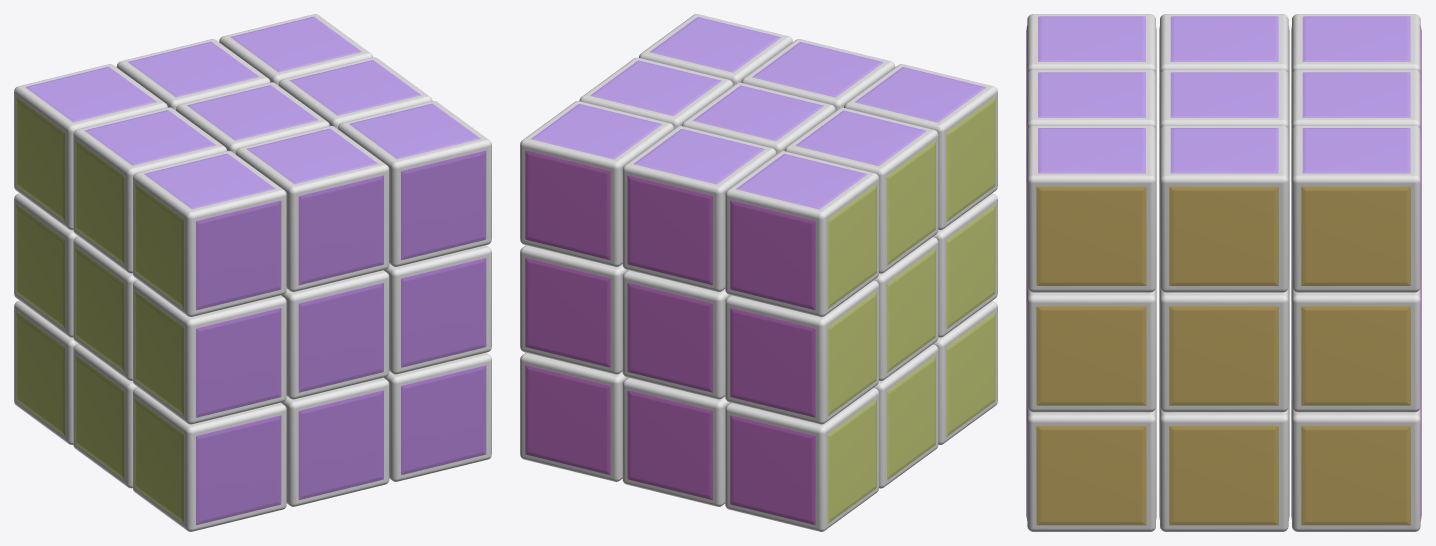
Rendered from KUBIK.glb.
The picture shows the model from 3 angles, left to right: view 1: azimuth 30°, elevation 25°; view 2: azimuth 150°, elevation 25°; view 3: azimuth 270°, elevation 25°; orthographic projection. The views are drawn at different scales.
Parts seen in each view (by area): view 1: Plane.007, Plane.124, Plane.115, Plane.103, Plane.100, Plane.091, Plane.112, Plane.004, Plane.016, Cube.021, Cube.020, Cube.019 (+34 smaller); view 2: Plane.161, Plane.149, Plane.066, Plane.065, Plane.054, Plane.042, Plane.041, Plane.053, Plane.150, Cube.027, Cube.025, Cube.026 (+34 smaller); view 3: Plane.107, Plane.108, Plane, Plane.072, Plane.071, Plane.144, Plane.143, Plane.036, Plane.035, Cube.025, Cube.024, Cube.019 (+21 smaller).
Part boxes in pixels (x1=…): Plane.007: x1=298, y1=390, x2=383, y2=499; Plane.124: x1=196, y1=200, x2=281, y2=310; Plane.115: x1=298, y1=175, x2=383, y2=285; Plane.103: x1=401, y1=258, x2=486, y2=367; Plane.100: x1=298, y1=283, x2=383, y2=392; Plane.091: x1=196, y1=308, x2=281, y2=417; Plane.112: x1=401, y1=150, x2=486, y2=260; Plane.004: x1=401, y1=365, x2=486, y2=474; Plane.016: x1=196, y1=415, x2=281, y2=524; Cube.021: x1=133, y1=151, x2=286, y2=316; Cube.020: x1=235, y1=126, x2=389, y2=291; Cube.019: x1=338, y1=101, x2=491, y2=266; Plane.161: x1=730, y1=200, x2=815, y2=309; Plane.149: x1=525, y1=150, x2=610, y2=259; Plane.066: x1=525, y1=258, x2=610, y2=367; Plane.065: x1=627, y1=283, x2=712, y2=392; Plane.054: x1=730, y1=308, x2=815, y2=417; Plane.042: x1=627, y1=390, x2=712, y2=499; Plane.041: x1=525, y1=365, x2=610, y2=474; Plane.053: x1=730, y1=415, x2=815, y2=524; Plane.150: x1=627, y1=175, x2=712, y2=284; Cube.027: x1=725, y1=151, x2=878, y2=316; Cube.025: x1=520, y1=101, x2=673, y2=266; Cube.026: x1=622, y1=126, x2=776, y2=291; Plane.107: x1=1036, y1=306, x2=1146, y2=405; Plane.108: x1=1036, y1=186, x2=1146, y2=285; Plane: x1=1036, y1=426, x2=1146, y2=525; Plane.072: x1=1169, y1=306, x2=1278, y2=405; Plane.071: x1=1301, y1=306, x2=1410, y2=405; Plane.144: x1=1301, y1=186, x2=1410, y2=285; Plane.143: x1=1169, y1=186, x2=1278, y2=285; Plane.036: x1=1301, y1=426, x2=1410, y2=525; Plane.035: x1=1169, y1=426, x2=1278, y2=525; Cube.025: x1=1292, y1=125, x2=1420, y2=292; Cube.024: x1=1160, y1=125, x2=1288, y2=292; Cube.019: x1=1027, y1=125, x2=1155, y2=292.
Size of the model in its own units: 5.98 by 5.97 by 5.99.
